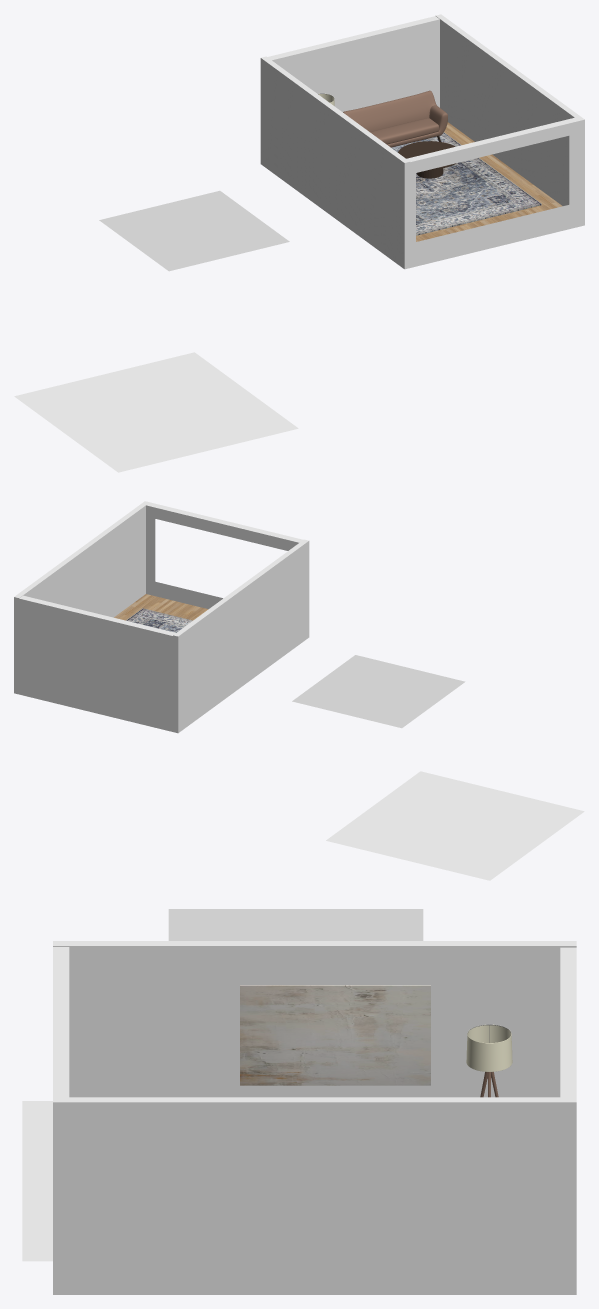
File: roomss.glb
The picture shows the model from 3 angles, top to bottom: view 1: azimuth 30°, elevation 25°; view 2: azimuth 150°, elevation 25°; view 3: azimuth 270°, elevation 25°; orthographic projection. The views are drawn at different scales.
Parts seen in each view (by area): view 1: Cube, Plane.002, Plane.001, rug, sofa_mesh_n3d, Plane, pillow_002_mesh_n3d, table; view 2: Cube, Plane.002, Plane.001, Plane, rug; view 3: Cube, paint, Plane.001, Plane.002, cover_mesh_n3d.
Part boxes in pixels (bbox=[...]): Cube: bbox=[260, 14, 584, 269]; Plane.002: bbox=[14, 352, 298, 472]; Plane.001: bbox=[99, 190, 289, 271]; rug: bbox=[391, 132, 541, 235]; sofa_mesh_n3d: bbox=[343, 90, 447, 147]; Plane: bbox=[416, 122, 562, 241]; pillow_002_mesh_n3d: bbox=[370, 118, 439, 144]; table: bbox=[398, 141, 456, 178]; Cube: bbox=[14, 501, 309, 733]; Plane.002: bbox=[326, 771, 584, 880]; Plane.001: bbox=[292, 655, 465, 728]; Plane: bbox=[114, 594, 208, 620]; rug: bbox=[126, 608, 192, 632]; Cube: bbox=[53, 941, 576, 1294]; paint: bbox=[240, 985, 430, 1085]; Plane.001: bbox=[168, 909, 423, 940]; Plane.002: bbox=[22, 1101, 52, 1261]; cover_mesh_n3d: bbox=[466, 1024, 512, 1071].
Bounding box in the file's own units: 166 × 77.3 × 92.12.
Materials: 13 (3 with a texture image).
